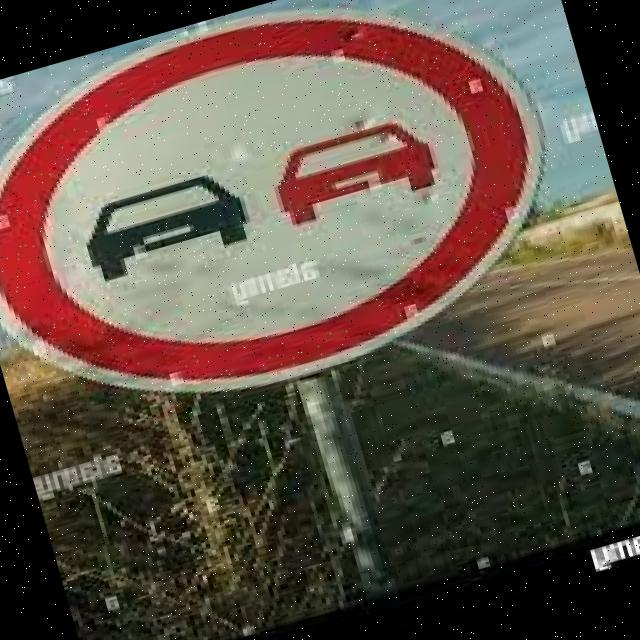no_passing: (0, 0, 599, 469)
